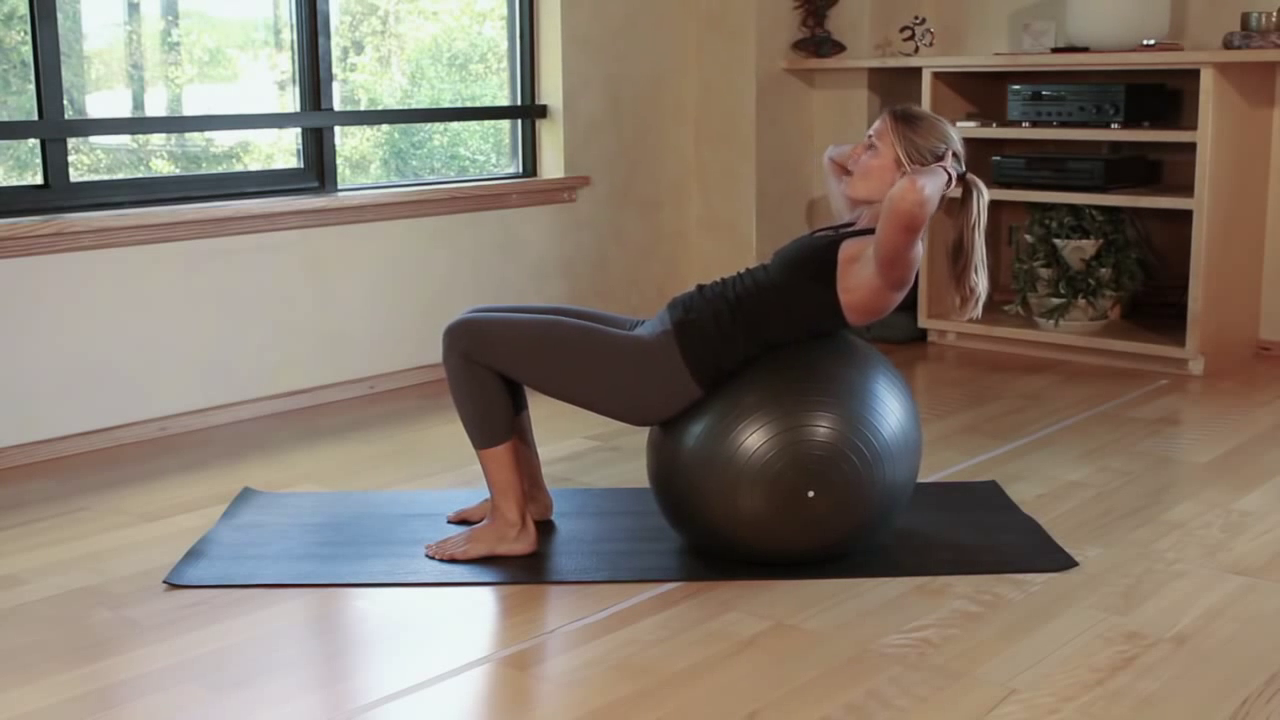yogaball: (644, 324, 928, 560)
